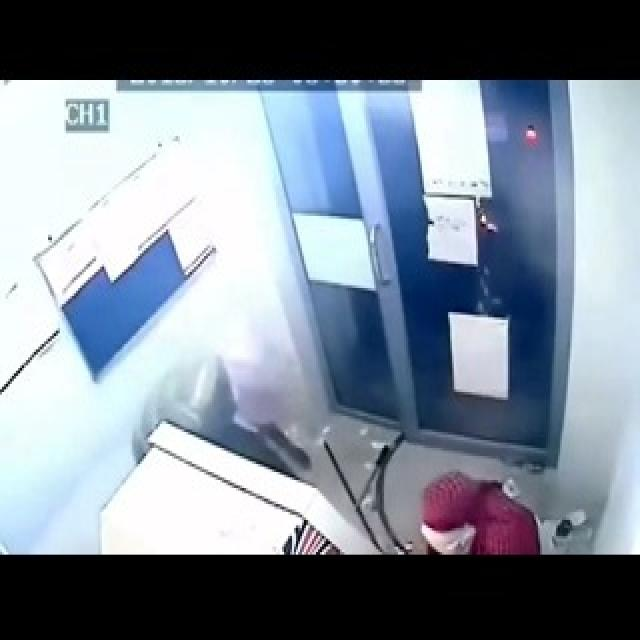thief: (412, 466, 545, 557)
